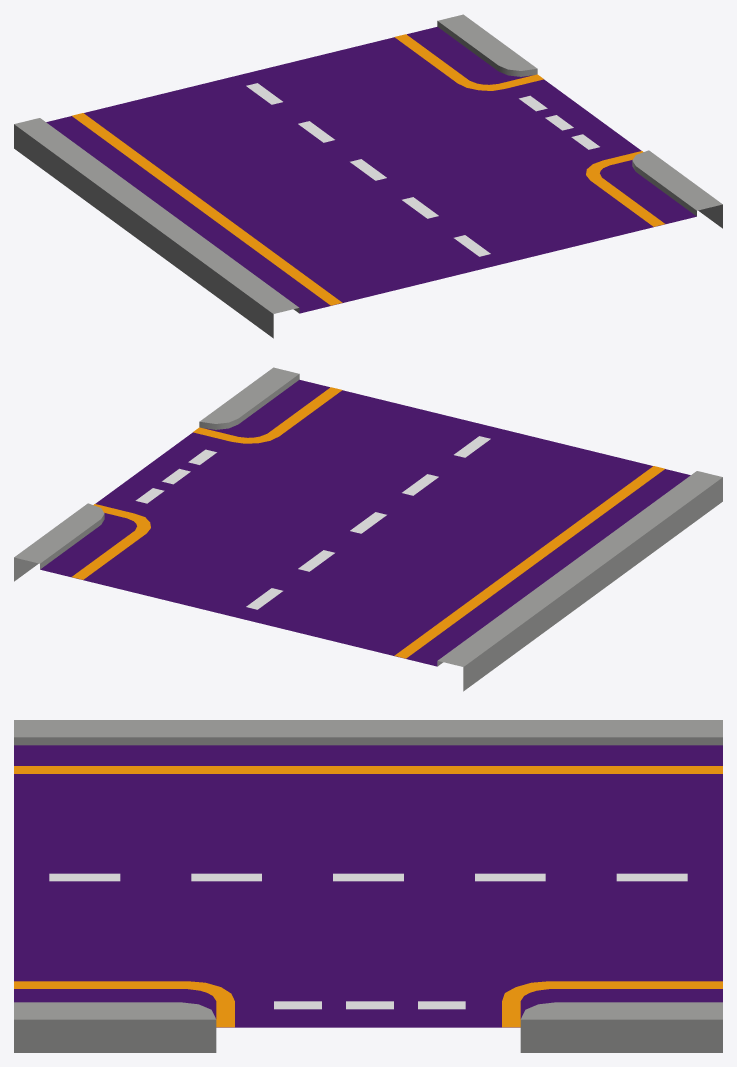
Rendered from Road_C_5.fbx.
3 views of the same model, one above another, from view 1: azimuth 30°, elevation 25°; view 2: azimuth 150°, elevation 25°; view 3: azimuth 270°, elevation 25° (orthographic). The views are drawn at different scales.
Visible parts, largest first — view 1: Road_C_5; view 2: Road_C_5; view 3: Road_C_5.
Boxes of the visible parts, x1=… form: Road_C_5: x1=14, y1=14, x2=722, y2=338; Road_C_5: x1=14, y1=367, x2=722, y2=691; Road_C_5: x1=14, y1=720, x2=722, y2=1052.
Bounding box in the file's own units: 800 × 41.48 × 800.
